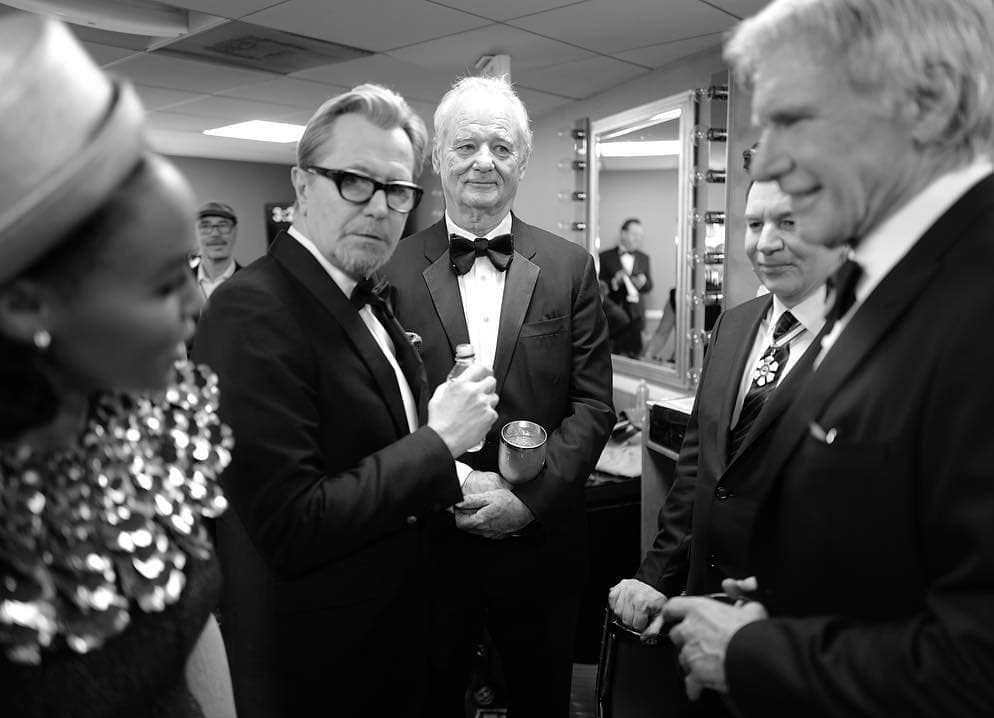hand: (456, 493, 540, 530)
